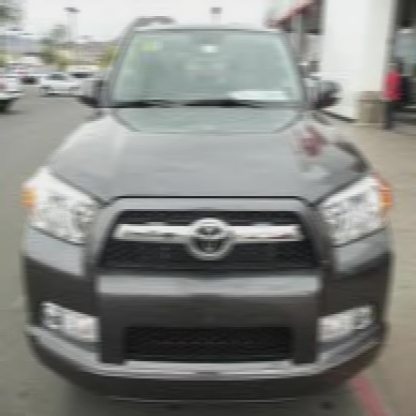Vehicle: (11, 26, 394, 401)
